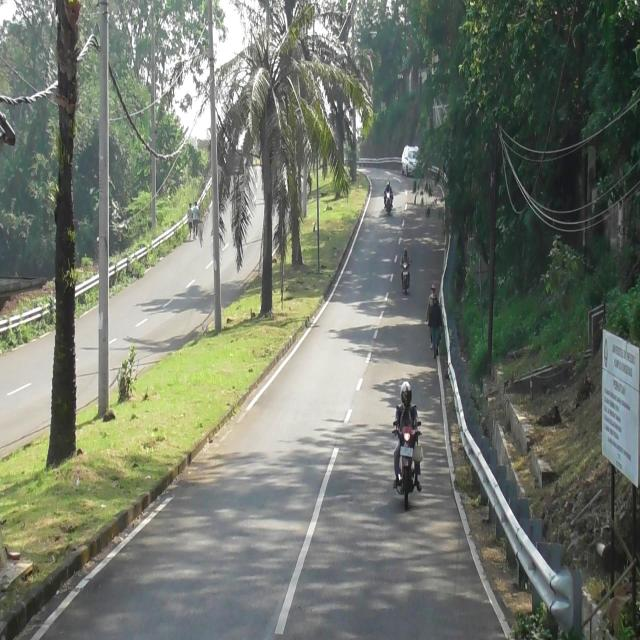motorcycle: (391, 416, 422, 510), (400, 260, 411, 294), (384, 193, 392, 215)
person: (392, 381, 420, 492), (401, 245, 410, 268), (385, 180, 392, 197)
rider_region: (394, 378, 422, 514), (400, 245, 411, 296), (384, 180, 394, 215)
